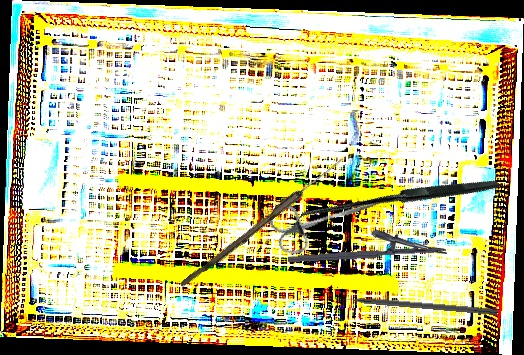Hook Surgical: (292, 104, 501, 309), (333, 292, 499, 316)
Iris Scissors: (265, 175, 391, 260)
Needle Holder: (286, 225, 447, 264)
Surgical Spoon: (179, 154, 345, 292)
